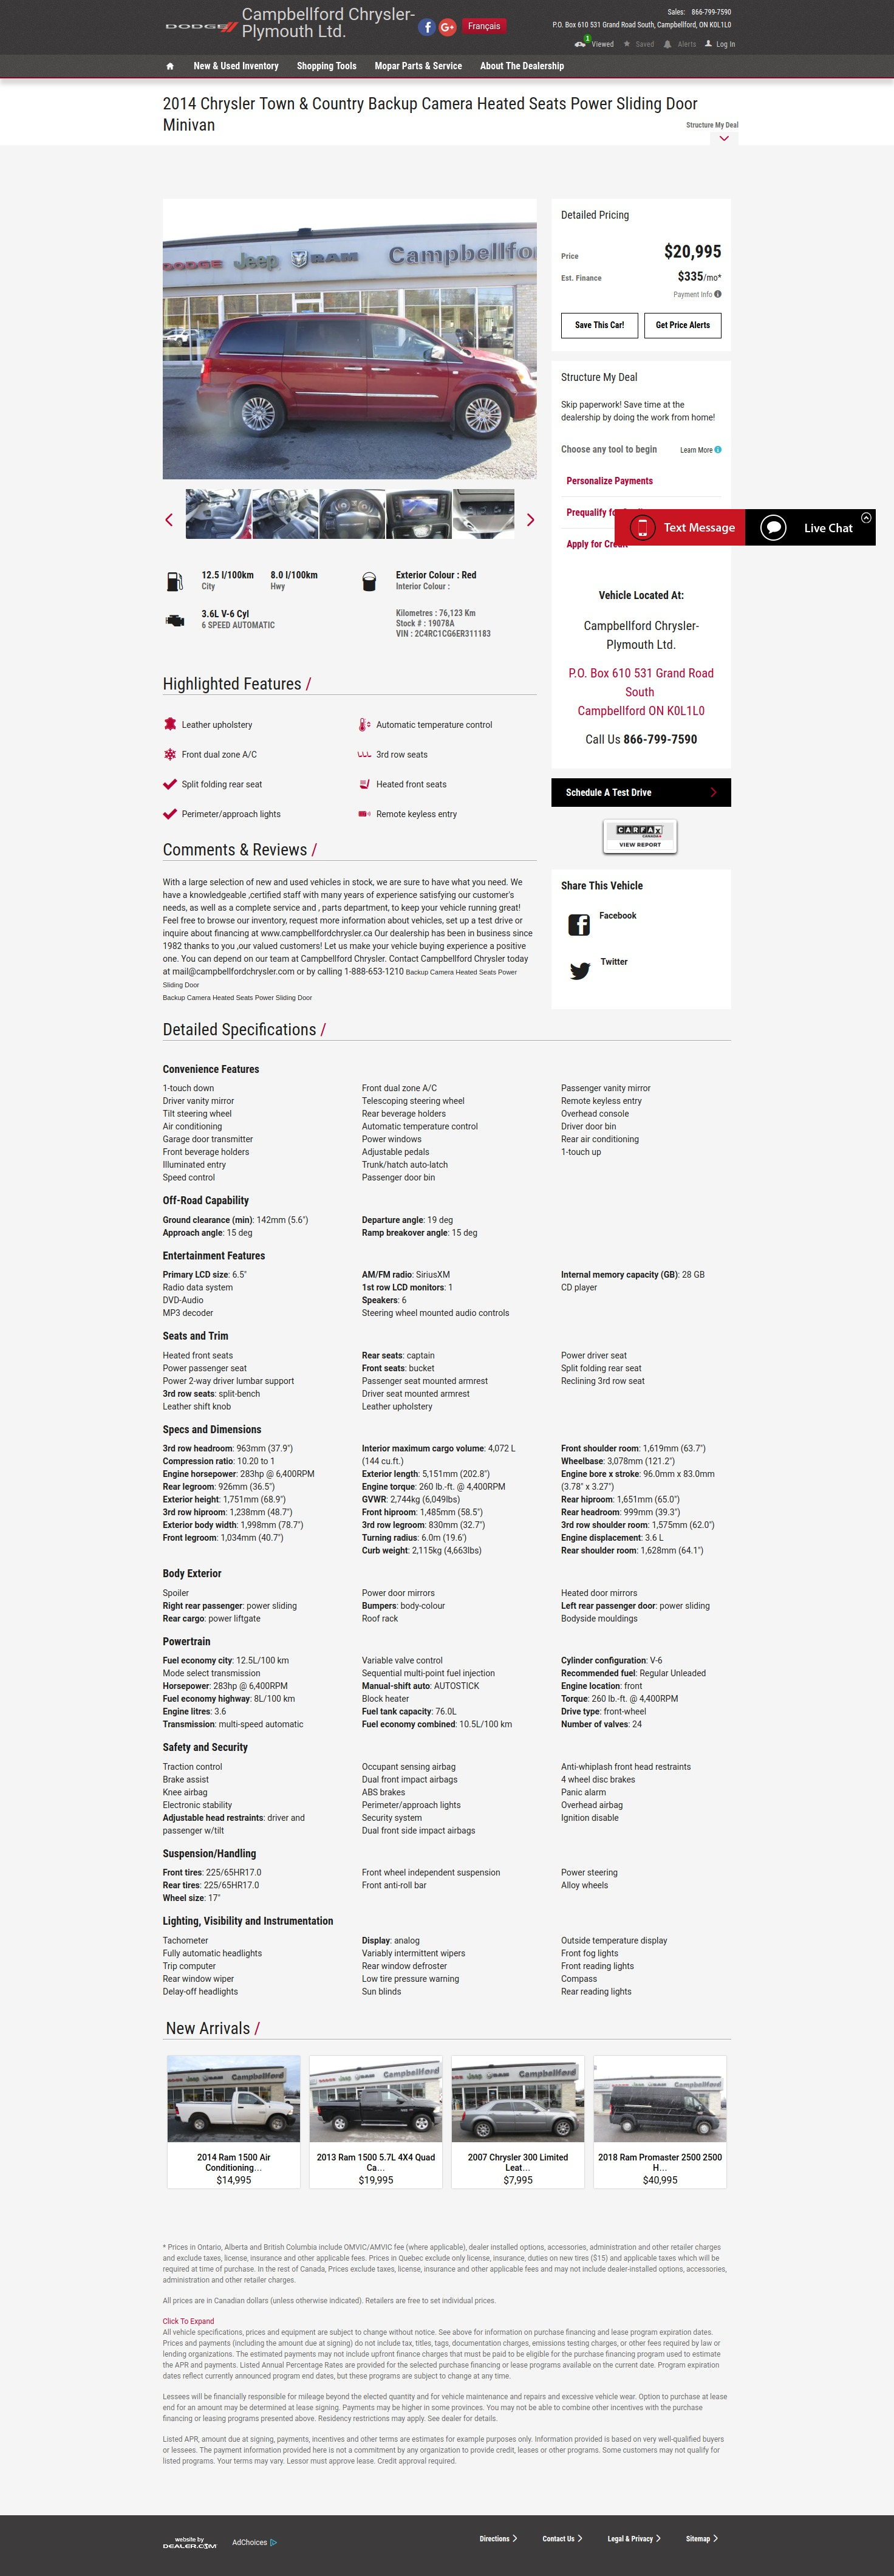car: (524, 511, 537, 531)
